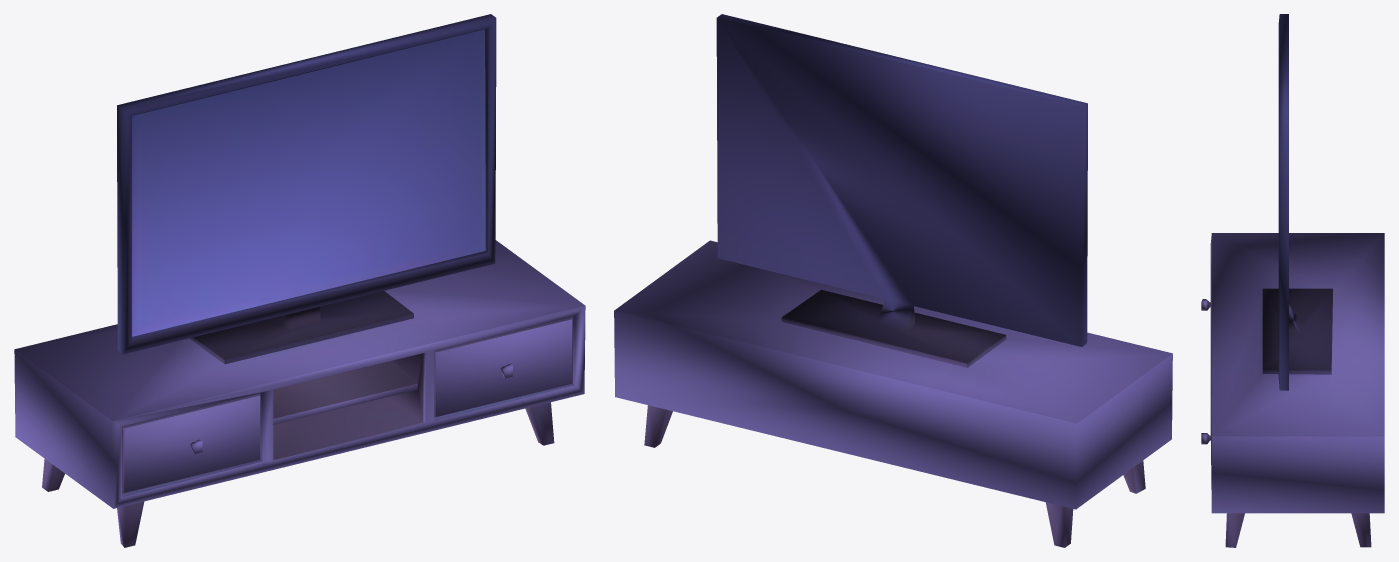
File: model.progressive.glb
3 views of the same model, side by side, from view 1: azimuth 30°, elevation 25°; view 2: azimuth 150°, elevation 25°; view 3: azimuth 270°, elevation 25° (orthographic). The views are drawn at different scales.
Parts seen in each view (by area): view 1: mesh_input; view 2: mesh_input; view 3: mesh_input.
Boxes of the visible parts, x1,y1,x2,y2 form: mesh_input: [14, 14, 585, 547]; mesh_input: [614, 14, 1172, 547]; mesh_input: [1201, 14, 1384, 547].
Size of the model in its own units: 1.9 by 1.57 by 0.7226.
Materials: 1 (1 with a texture image).
